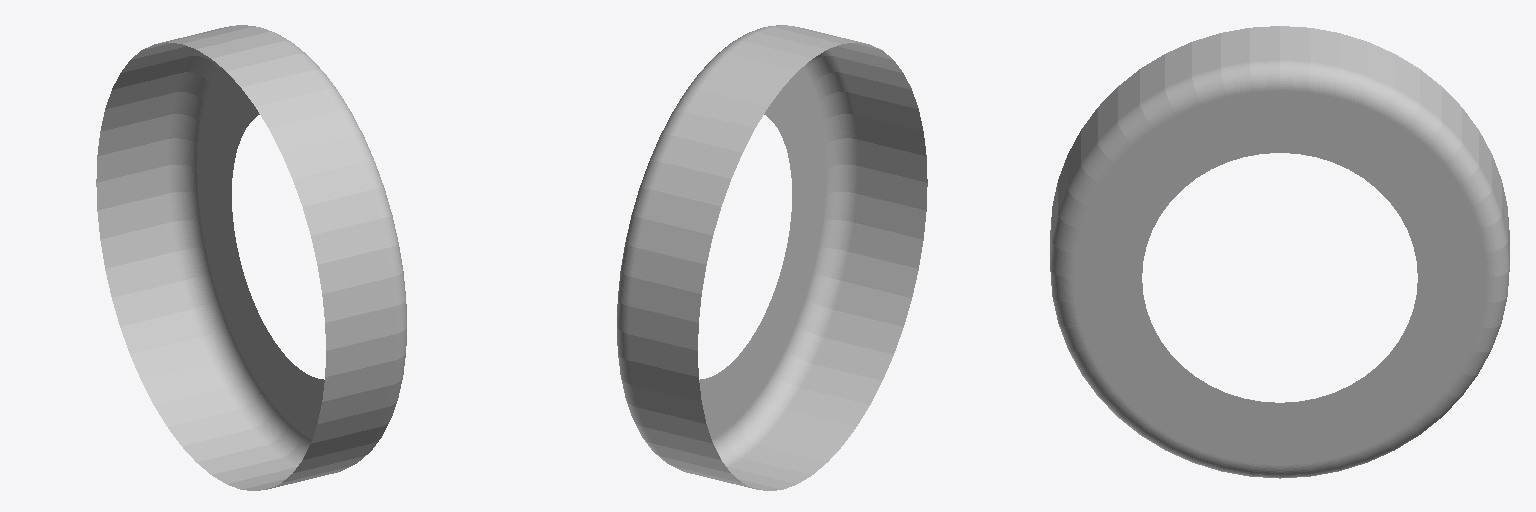
Rendered from disks__12.obj.
3 renders of one model, left to right at view 1: azimuth 30°, elevation 25°; view 2: azimuth 150°, elevation 25°; view 3: azimuth 270°, elevation 25°, orthographic.
Visible parts, largest first — view 1: grp12; view 2: grp12; view 3: grp12.
Boxes of the visible parts, box(x1,y1,x2,y2) form: grp12: box(96, 25, 406, 490); grp12: box(617, 25, 927, 490); grp12: box(1050, 26, 1509, 478).
Size of the model in its own units: 1.12 by 5 by 5.